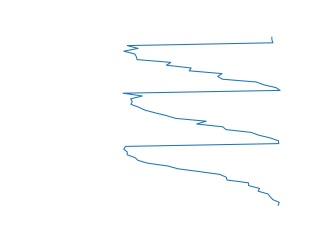distributaryMouthBar: (120, 35, 286, 207)
